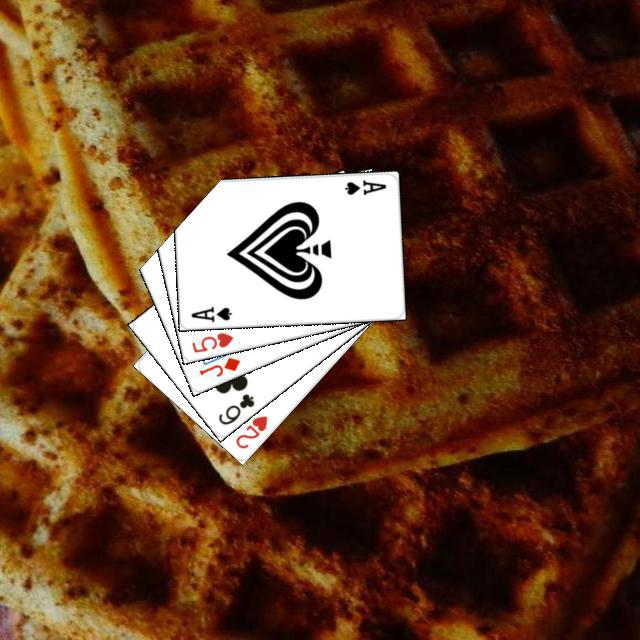2h: (230, 411, 269, 450)
5h: (187, 328, 235, 354)
6c: (213, 388, 256, 427)
As: (186, 301, 233, 324), (339, 175, 388, 197)
Jd: (194, 352, 242, 378)
